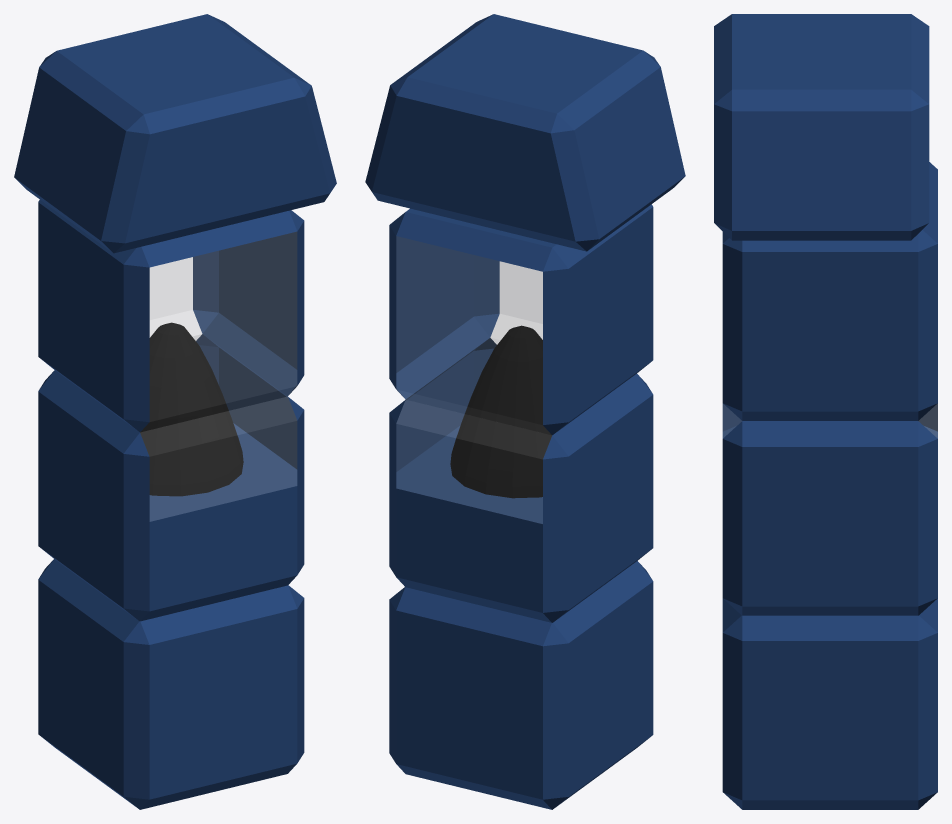
Rendered from Wallcandle.fbx.
3 renders of one model, left to right at view 1: azimuth 30°, elevation 25°; view 2: azimuth 150°, elevation 25°; view 3: azimuth 270°, elevation 25°, orthographic. The views are drawn at different scales.
Parts seen in each view (by area): view 1: wall, wallCandle; view 2: wall, wallCandle; view 3: wall.
Part boxes in pixels (x1,y1,x2,y2): wall: (14, 14, 336, 809); wallCandle: (140, 322, 243, 496); wall: (365, 14, 685, 809); wallCandle: (450, 325, 551, 498); wall: (714, 14, 937, 809).
Size of the model in its own units: 261 by 739 by 208.
